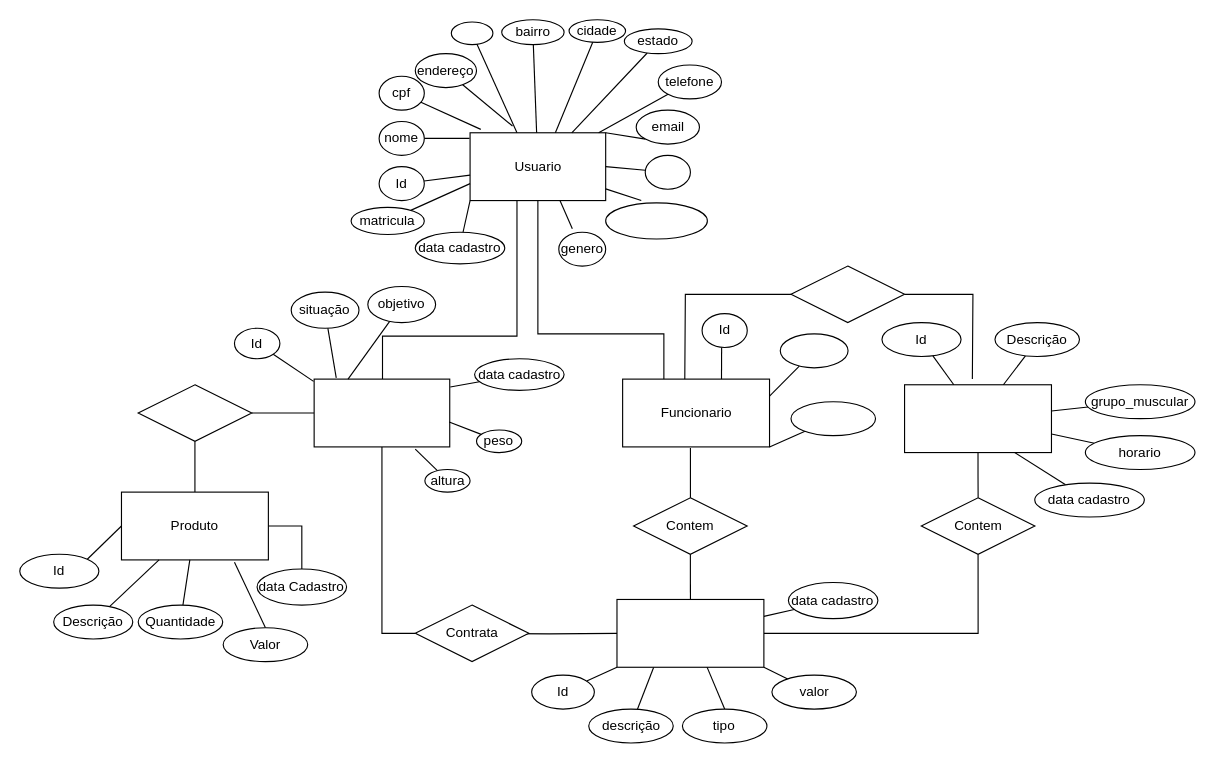
The diagram is 1215 pixels wide and 763 high, and some of its shapes have lost their labels. Here are the shapes that lost their labels. From the top down, the box of each, then its label:
(450, 21, 493, 45): cep
(644, 154, 690, 189): senha
(605, 202, 707, 239): data nascimento
(790, 265, 905, 323): Prescreve
(779, 333, 848, 368): cargo
(137, 384, 252, 441): Compra
(313, 378, 450, 447): Cliente
(790, 401, 876, 436): conta bancaria
(903, 384, 1051, 453): Treino
(616, 598, 764, 667): Plano
